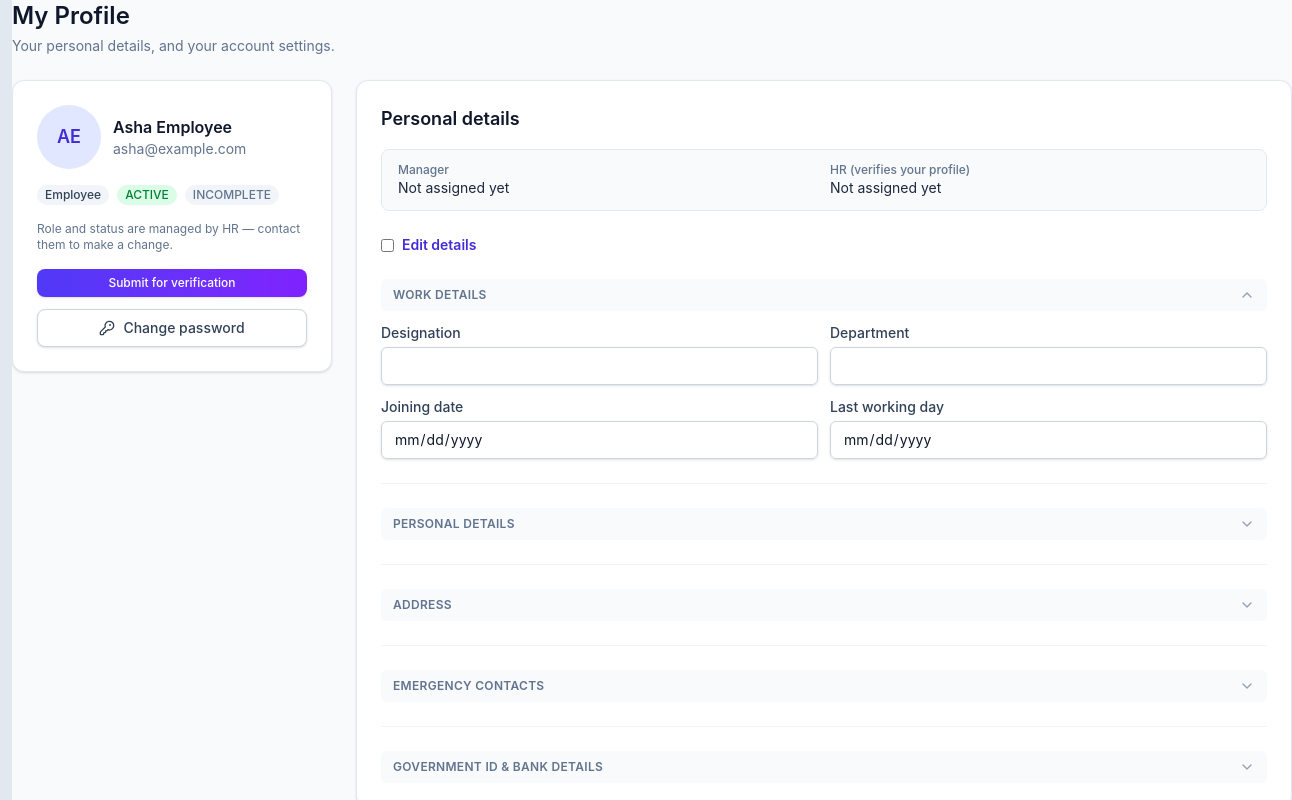
ProfilePage › shows the identity document upload inside Government ID & bank details once opened
Expected: the text "PAN card" is not shown
Step 1. Click the button "Government ID & bank details" → (498, 766), box [381, 751, 1267, 783]
(page scrolled)
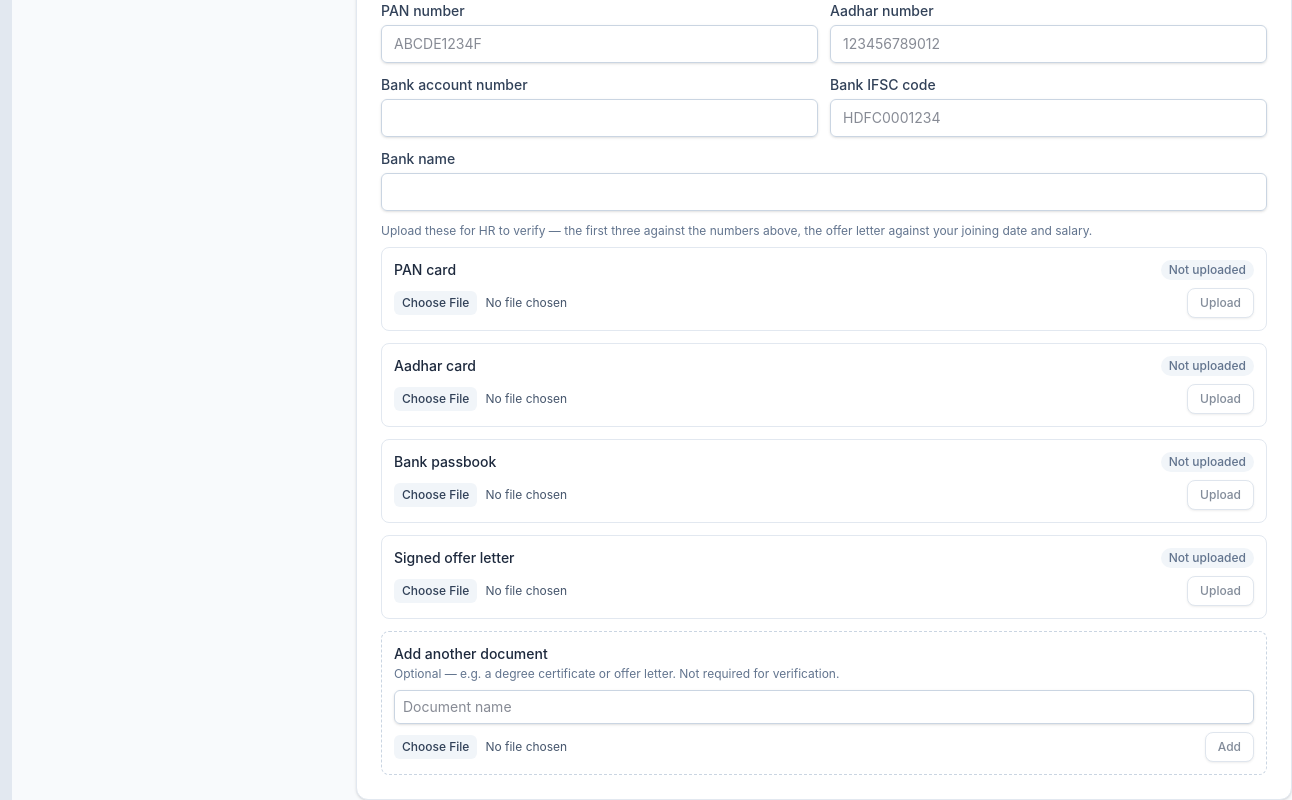
Result: the text "PAN card" is shown at [394, 260, 456, 280]
Result: the text "Aadhar card" is shown at [394, 356, 476, 376]
Result: the text "Bank passbook" is shown at [394, 452, 496, 472]
